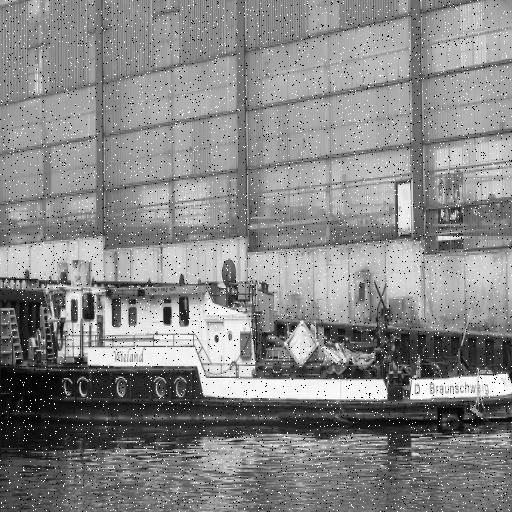tugboat: (1, 264, 512, 443)
